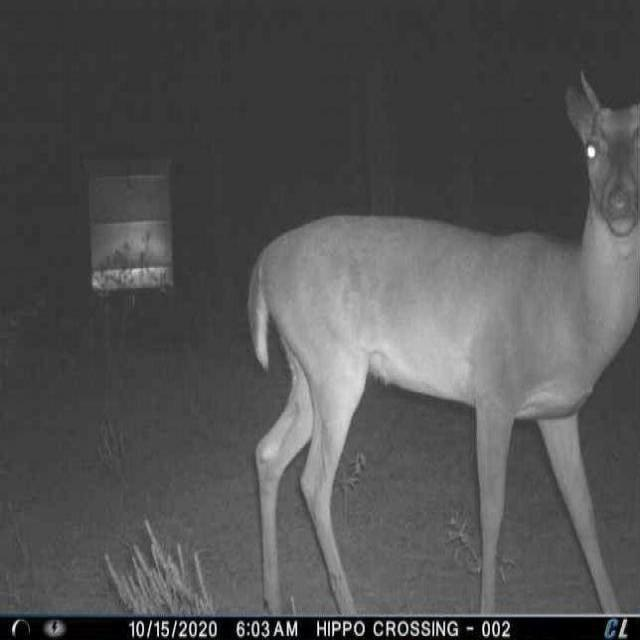deer: (246, 65, 638, 616)
